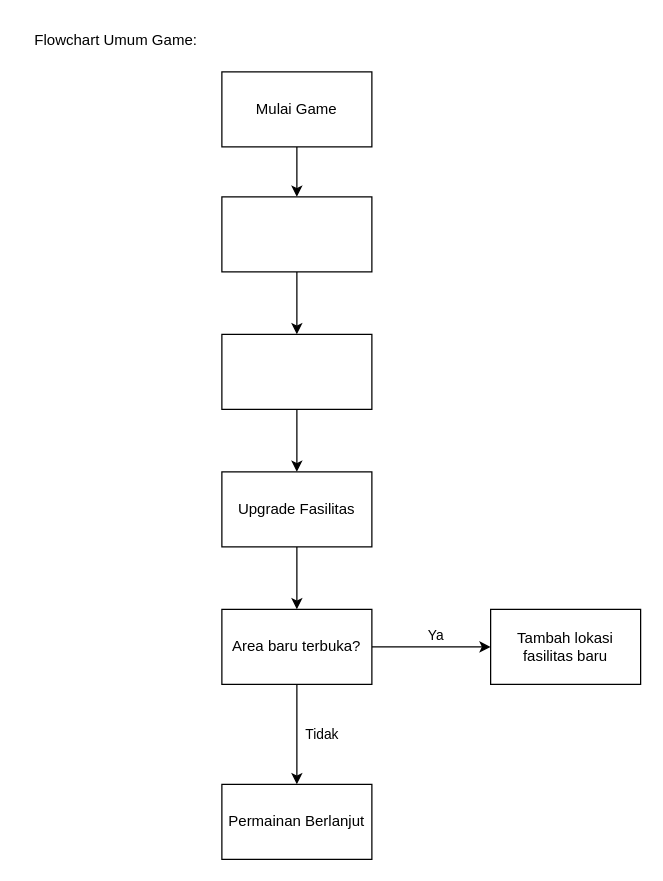
This 663x881 diagram has some shape labels left out. The box of each missing label's shape, as (x1, y1, x2, y2) in pixels:
Konversi ke uang/poin: (221, 333, 372, 409)
Pengumpulan Sampah: (221, 196, 372, 272)
